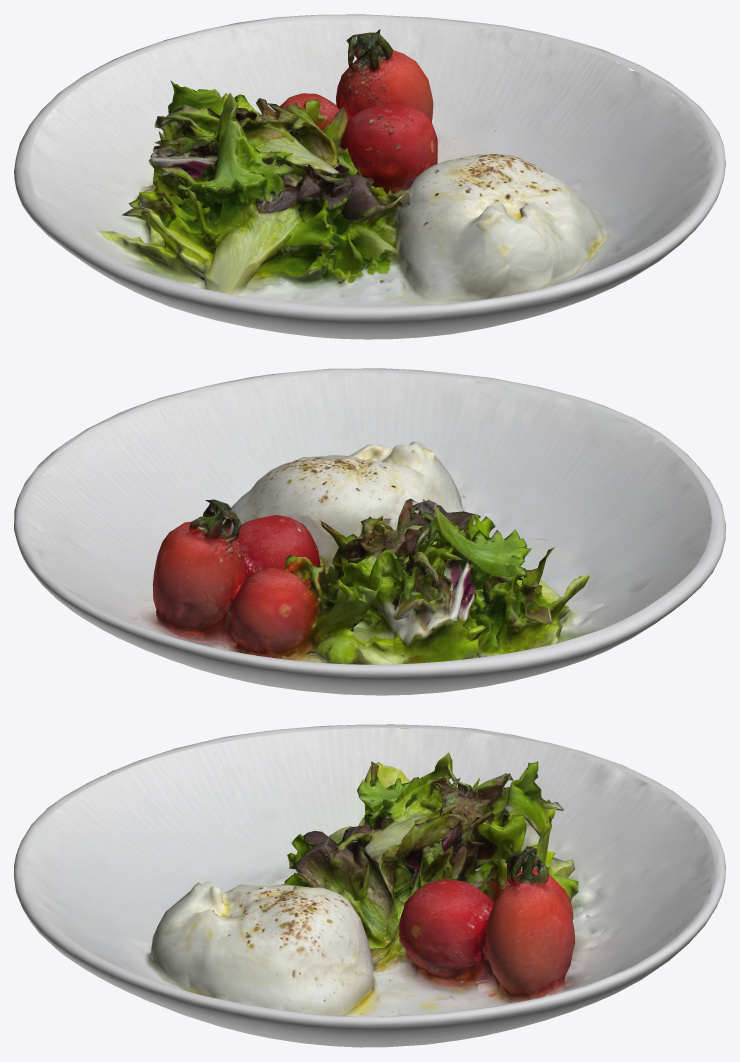
3 renders of one model, top to bottom at view 1: azimuth 30°, elevation 25°; view 2: azimuth 150°, elevation 25°; view 3: azimuth 270°, elevation 25°, orthographic.
Parts seen in each view (by area): view 1: object.003; view 2: object.003; view 3: object.003.
Part boxes in pixels (x1,y1,x2,y2): object.003: (14, 14, 725, 339); object.003: (14, 368, 725, 695); object.003: (14, 724, 725, 1047).
Size of the model in its own units: 0.287 by 0.0765 by 0.287.
1 material, 1 textured.
